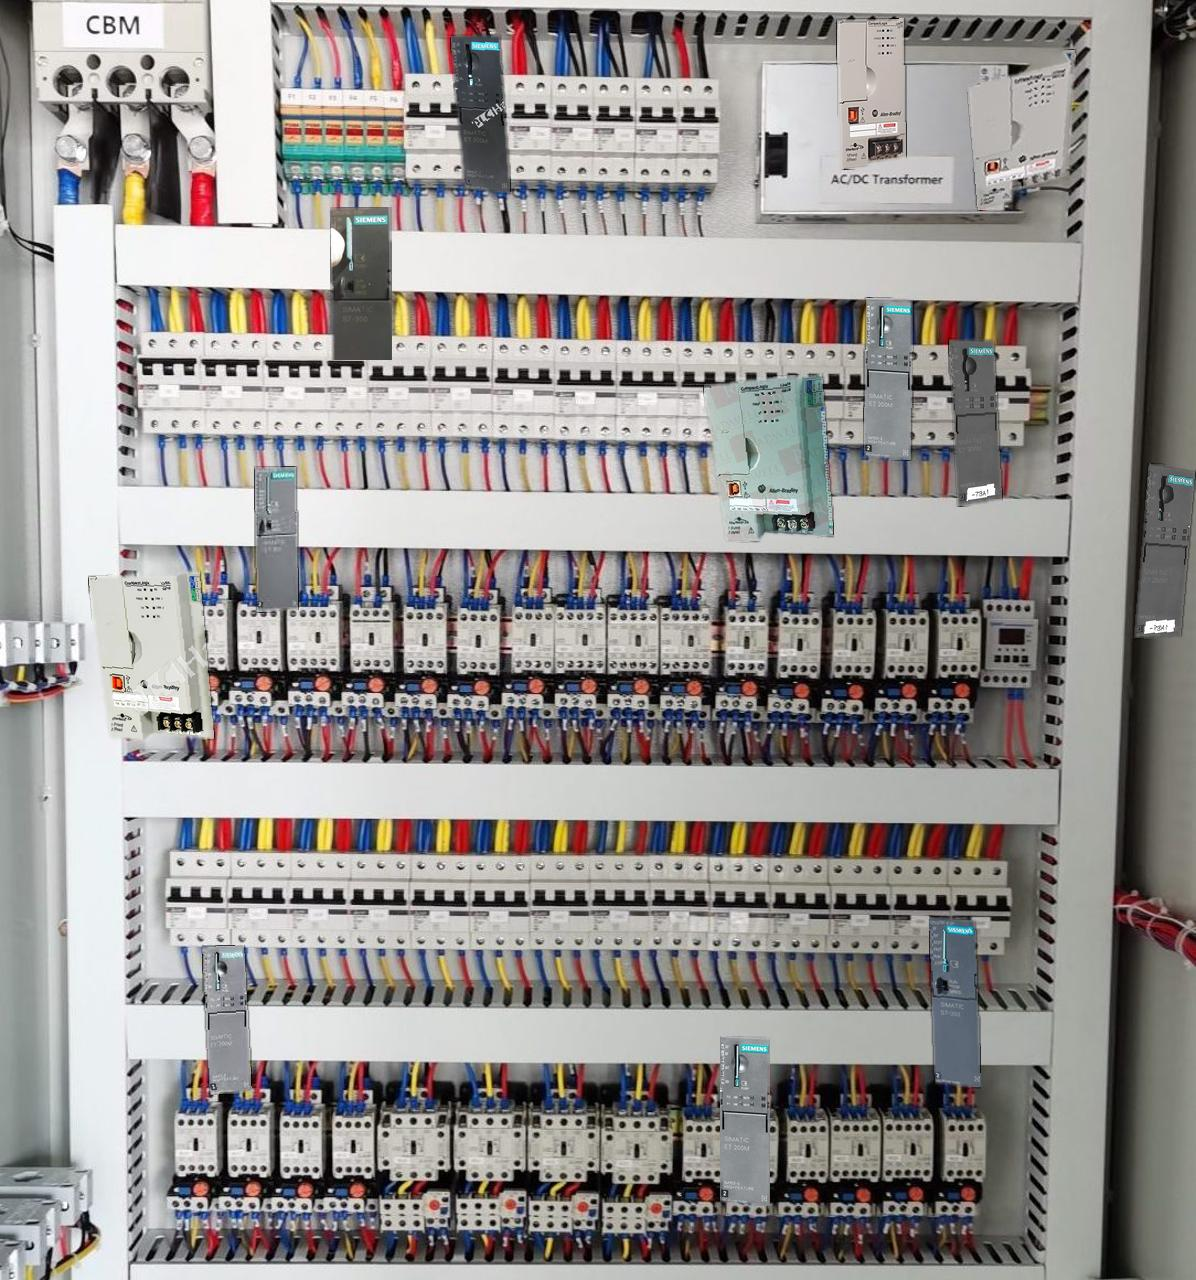AllenBradley: (704, 375, 833, 541), (89, 571, 212, 739), (968, 49, 1075, 209), (837, 18, 905, 169)
Siemens: (330, 207, 391, 358), (928, 917, 980, 1086), (255, 467, 297, 611)
